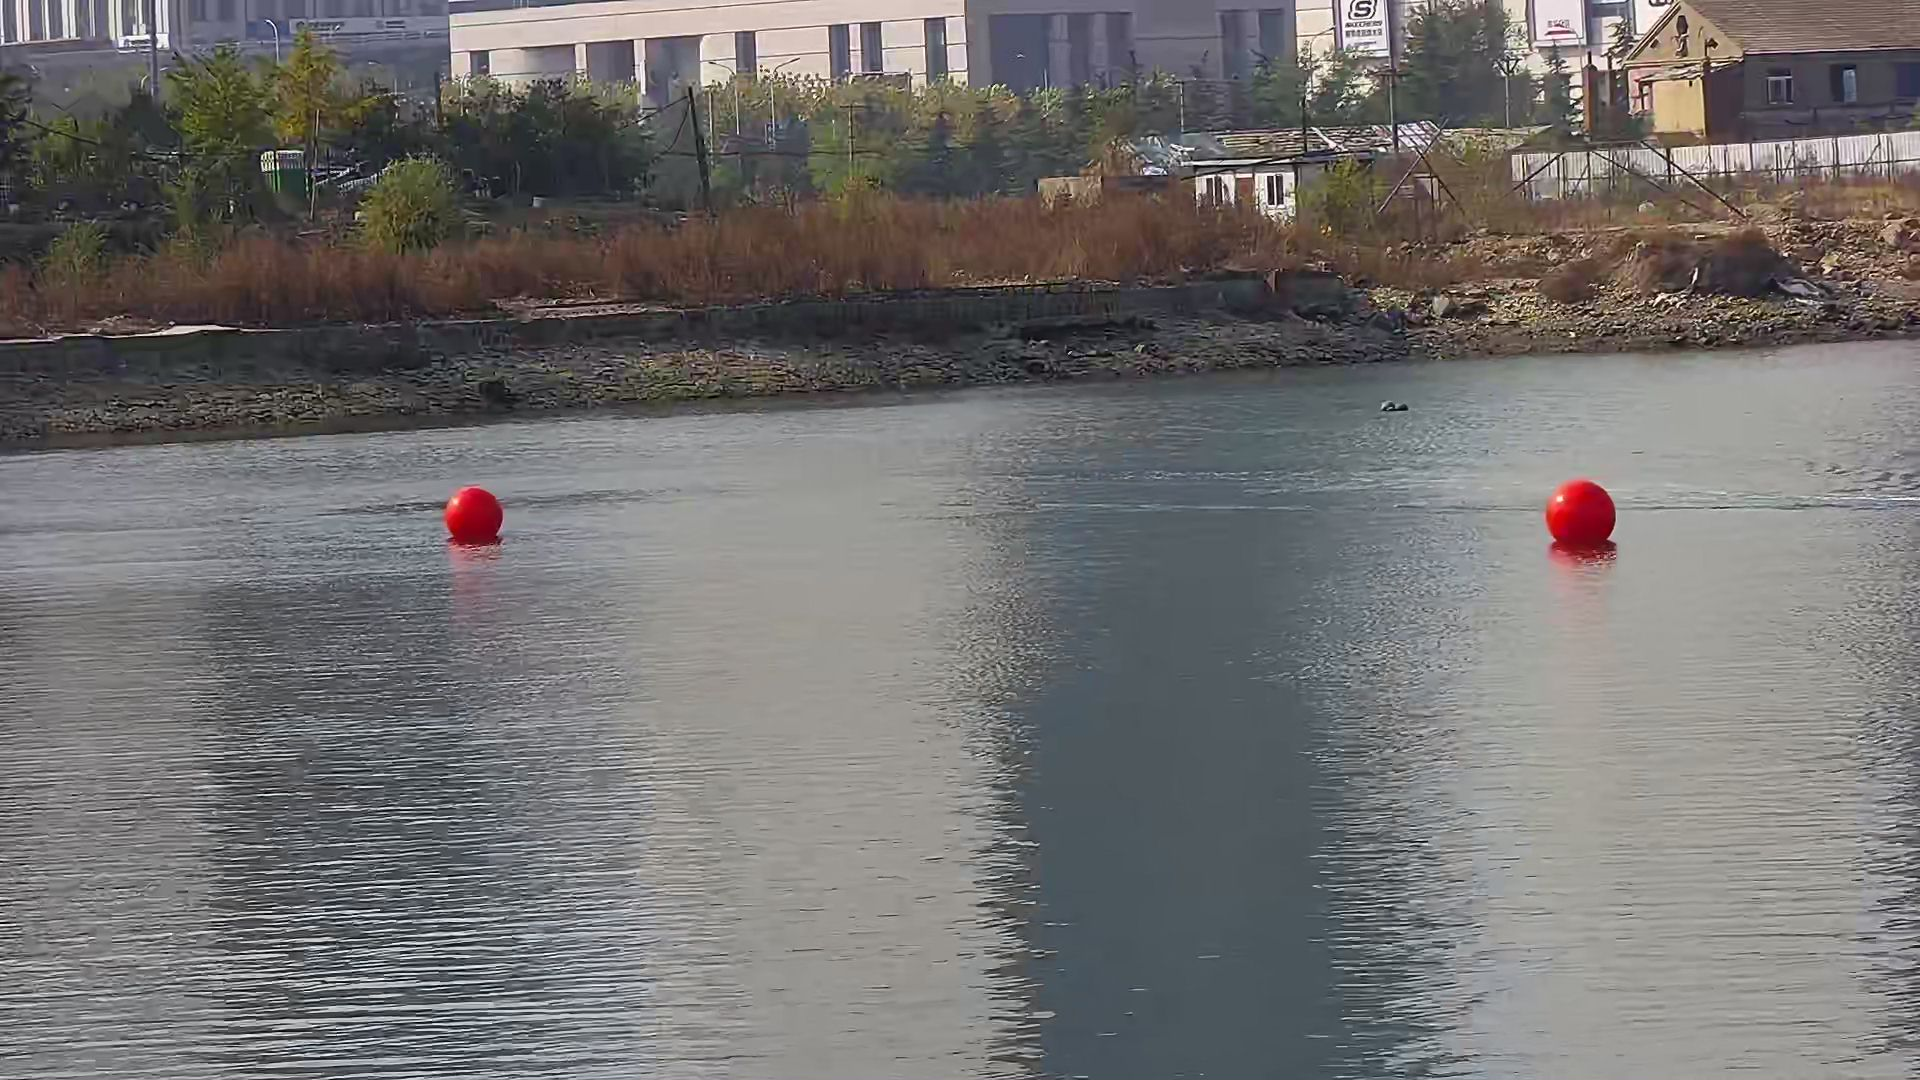ball: (1543, 479, 1619, 545), (436, 485, 506, 545)
rubbish: (1378, 398, 1411, 413)
